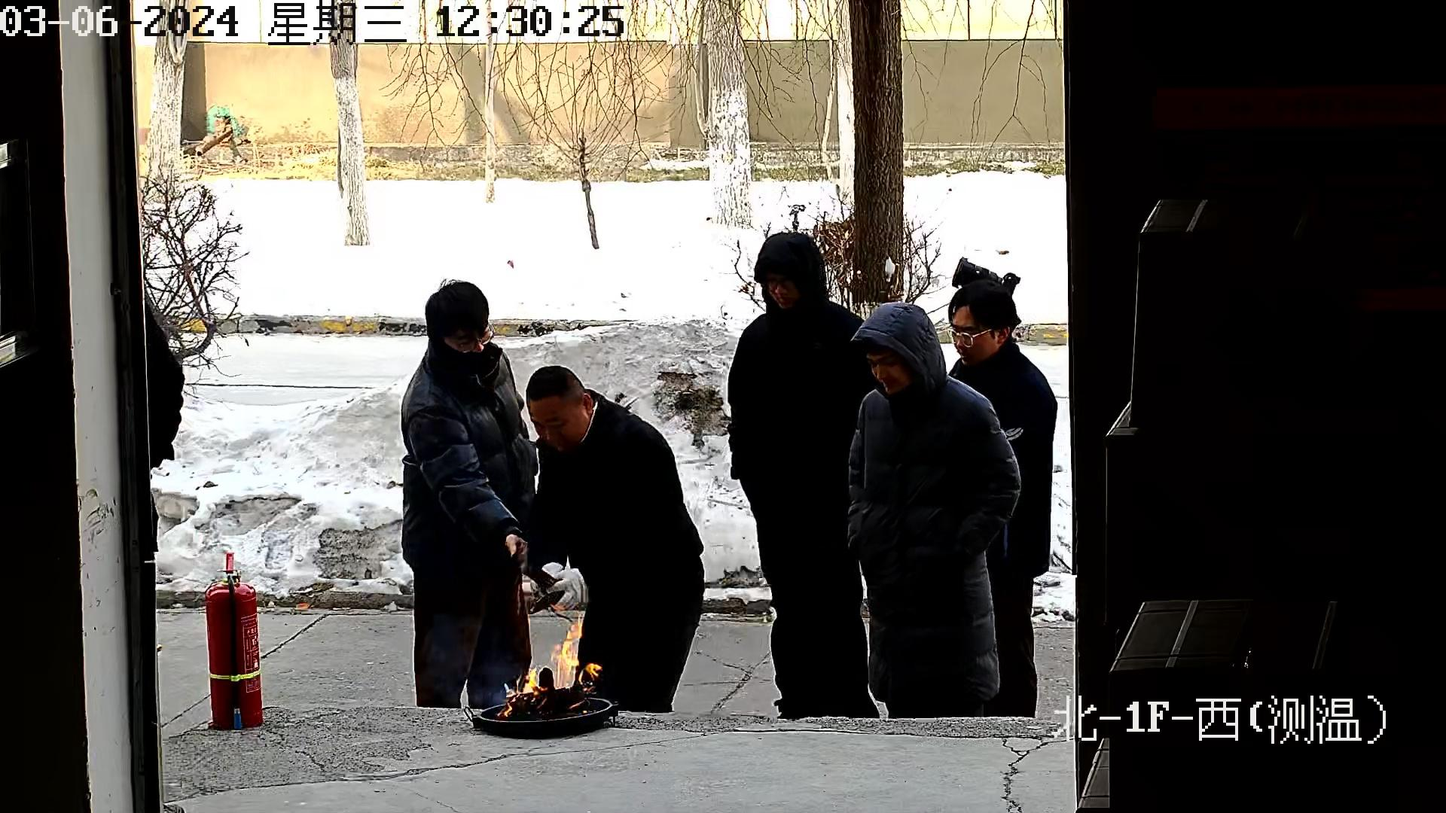fire: (505, 620, 601, 712)
